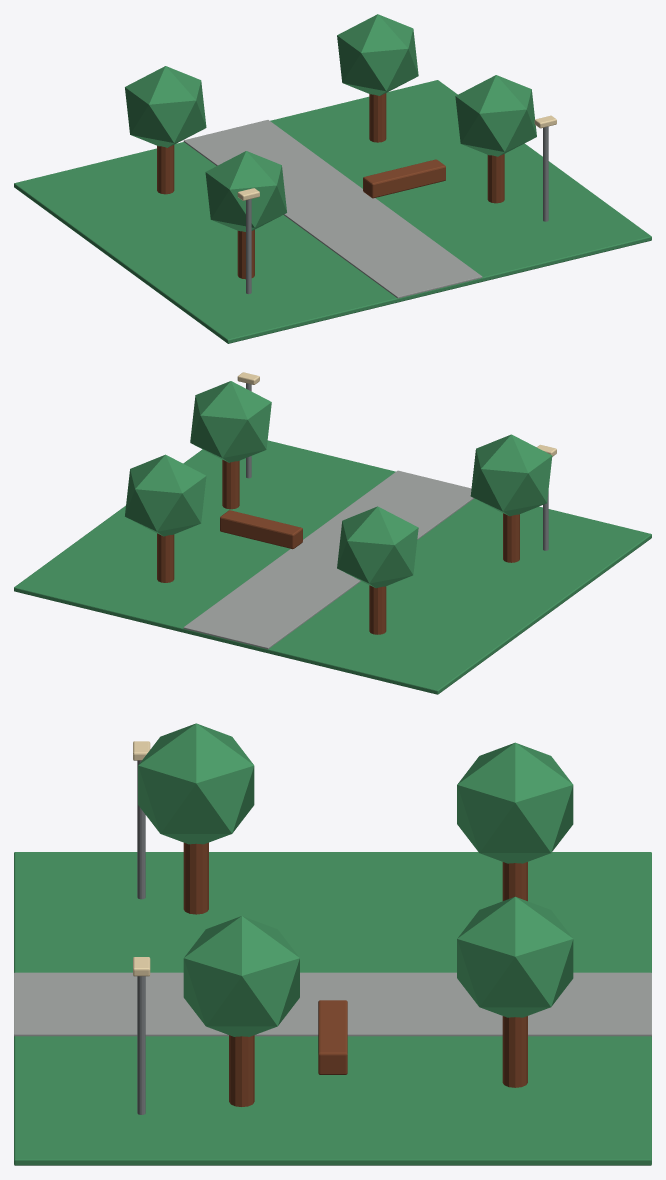
The model's file is neighborhood_pocket_park_a.glb.
3 views of the same model, one above another, from view 1: azimuth 30°, elevation 25°; view 2: azimuth 150°, elevation 25°; view 3: azimuth 270°, elevation 25° (orthographic). The views are drawn at different scales.
Visible parts, largest first — view 1: SET_Ground, SET_Path, PROP_TreeCrown_3, PROP_TreeCrown_2, PROP_TreeCrown_1, PROP_TreeCrown_0, PROP_ParkBench, PROP_TreeTrunk_3, PROP_TreeTrunk_1, PROP_TreeTrunk_2, PROP_TreeTrunk_0, SET_LampPost_1 (+1 smaller); view 2: SET_Ground, SET_Path, PROP_TreeCrown_0, PROP_TreeCrown_1, PROP_TreeCrown_3, PROP_TreeCrown_2, PROP_ParkBench, PROP_TreeTrunk_2, PROP_TreeTrunk_1, PROP_TreeTrunk_3, PROP_TreeTrunk_0; view 3: SET_Ground, SET_Path, PROP_TreeCrown_3, PROP_TreeCrown_2, PROP_TreeCrown_1, PROP_TreeCrown_0, PROP_ParkBench, PROP_TreeTrunk_3, PROP_TreeTrunk_1, PROP_TreeTrunk_0, SET_LampPost_1, PROP_TreeTrunk_2 (+1 smaller).
Boxes of the visible parts, x1,y1,x2,y2 form: SET_Ground: (14,80,651,343); SET_Path: (183,120,482,298); PROP_TreeCrown_3: (337,14,418,95); PROP_TreeCrown_2: (125,66,206,147); PROP_TreeCrown_1: (455,75,536,156); PROP_TreeCrown_0: (205,151,286,231); PROP_ParkBench: (363,159,445,198); PROP_TreeTrunk_3: (369,93,386,142); PROP_TreeTrunk_1: (487,154,504,203); PROP_TreeTrunk_2: (157,145,174,194); PROP_TreeTrunk_0: (237,229,254,279); SET_LampPost_1: (543,126,548,221); SET_Ground: (14,440,651,694); SET_Path: (183,470,473,649); PROP_TreeCrown_0: (470,434,552,516); PROP_TreeCrown_1: (190,381,271,462); PROP_TreeCrown_3: (125,454,206,536); PROP_TreeCrown_2: (337,506,418,588); PROP_ParkBench: (220,510,302,549); PROP_TreeTrunk_2: (369,585,386,634); PROP_TreeTrunk_1: (222,460,239,509); PROP_TreeTrunk_3: (157,533,174,582); PROP_TreeTrunk_0: (503,513,519,562); SET_Ground: (14,852,651,1165); SET_Path: (14,972,651,1036); PROP_TreeCrown_3: (457,896,573,1017); PROP_TreeCrown_2: (457,742,573,863); PROP_TreeCrown_1: (183,916,299,1036); PROP_TreeCrown_0: (138,723,254,844); PROP_ParkBench: (318,1000,347,1074); PROP_TreeTrunk_3: (502,1016,527,1087); PROP_TreeTrunk_1: (229,1035,254,1106); PROP_TreeTrunk_0: (183,842,208,914); SET_LampPost_1: (137,976,145,1114); PROP_TreeTrunk_2: (502,862,527,901).
Size of what is drawn, in the model's own units: 16 by 4.66 by 14.
